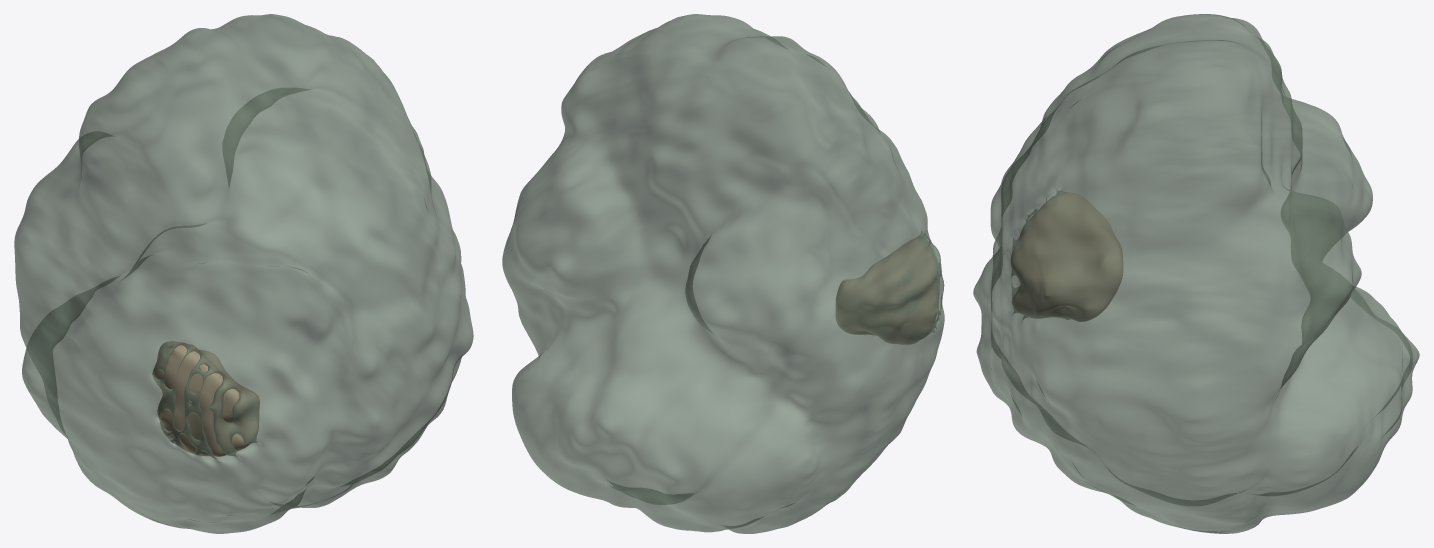
The model's file is nii1.gz.glb.
3 views of the same model, side by side, from view 1: azimuth 30°, elevation 25°; view 2: azimuth 150°, elevation 25°; view 3: azimuth 270°, elevation 25° (orthographic). The views are drawn at different scales.
Visible parts, largest first — view 1: 7efcffee49a8492d900b76c5d3a86413_seg.nii.gz.004; view 2: 7efcffee49a8492d900b76c5d3a86413_seg.nii.gz.004; view 3: 7efcffee49a8492d900b76c5d3a86413_seg.nii.gz.004.
Boxes of the visible parts, bbox=[...] form: 7efcffee49a8492d900b76c5d3a86413_seg.nii.gz.004: bbox=[14, 14, 473, 533]; 7efcffee49a8492d900b76c5d3a86413_seg.nii.gz.004: bbox=[502, 14, 944, 533]; 7efcffee49a8492d900b76c5d3a86413_seg.nii.gz.004: bbox=[973, 14, 1419, 533].
Size of the model in its own units: 130 by 160 by 134.
